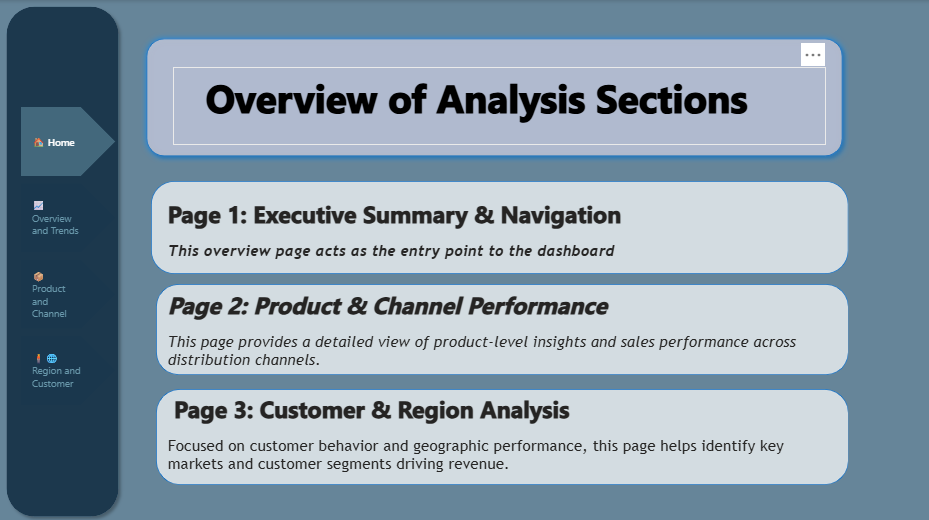

The dashboard page shown, as its layout file describes it:
{"tool":"powerbi","page":{"name":"🏠   Home","canvas":[1280,720],"ordinal":0},"visuals":[{"type":"shape","box":[214.7,536,953.3,132],"z":0},{"type":"shape","box":[214.7,390.7,953.3,125.3],"z":1000},{"type":"shape","box":[208,249.3,960,128],"z":2000},{"type":"shape","box":[192,44,976,180],"z":3000},{"type":"shape","title":"menu bg","box":[0,0,172,720],"z":4000},{"type":"pageNavigator","title":"menu buttons","box":[29.3,146.7,130.7,412],"z":5000},{"type":"textbox","box":[225.3,266.7,938.7,110.7],"z":6000},{"type":"textbox","box":[226,392.8,911.8,123.5],"z":7000},{"type":"textbox","box":[226,536.1,911.8,119.6],"z":8000},{"type":"textbox","box":[238.5,92.4,898.7,107.5],"z":9000}]}

Visuals, with their boxes on the page's 1280x720 design canvas (x1, y1, x2, y2). These are canvas units, not pixel positions in the 929x520 screenshot, which may show the page scaled, cropped or inside an application window:
shape: bbox=[215, 536, 1168, 668]
shape: bbox=[215, 391, 1168, 516]
shape: bbox=[208, 249, 1168, 377]
shape: bbox=[192, 44, 1168, 224]
"menu bg" shape: bbox=[0, 0, 172, 720]
"menu buttons" pageNavigator: bbox=[29, 147, 160, 559]
textbox: bbox=[225, 267, 1164, 377]
textbox: bbox=[226, 393, 1138, 516]
textbox: bbox=[226, 536, 1138, 656]
textbox: bbox=[238, 92, 1137, 200]
